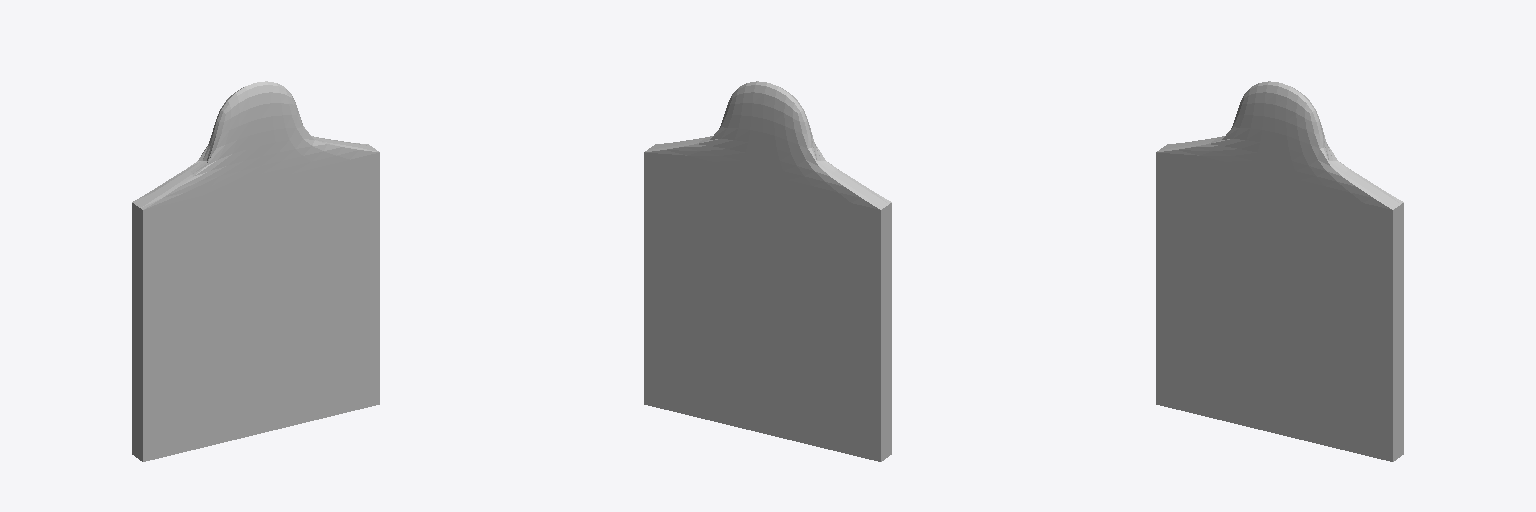
Rendered from krabChairBack2.obj.
3 renders of one model, left to right at view 1: azimuth 30°, elevation 25°; view 2: azimuth 150°, elevation 25°; view 3: azimuth 330°, elevation 25°, orthographic.
Parts seen in each view (by area): view 1: Cube.001_Cube.004; view 2: Cube.001_Cube.004; view 3: Cube.001_Cube.004.
Part boxes in pixels (bbox=[...]): Cube.001_Cube.004: bbox=[132, 81, 379, 461]; Cube.001_Cube.004: bbox=[644, 81, 891, 461]; Cube.001_Cube.004: bbox=[1156, 81, 1403, 461].
Bounding box in the file's own units: 2 × 2.8 × 0.1591.